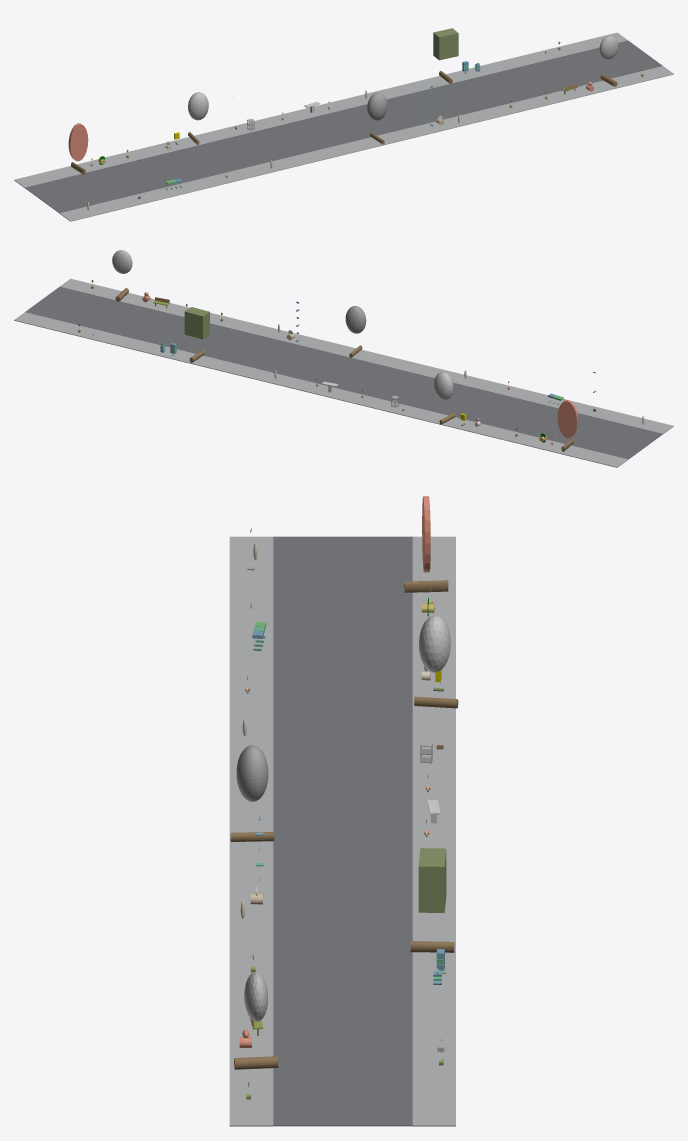
The picture shows the model from 3 angles, top to bottom: view 1: azimuth 30°, elevation 25°; view 2: azimuth 150°, elevation 25°; view 3: azimuth 270°, elevation 25°; orthographic projection. The views are drawn at different scales.
Visible parts, largest first — view 1: road_slab, sidewalk_left, sidewalk_right, inst_0015, inst_0012, inst_0013, inst_0014, inst_0016; view 2: road_slab, sidewalk_right, sidewalk_left, inst_0015, inst_0012, inst_0014, inst_0013, inst_0016; view 3: road_slab, sidewalk_left, sidewalk_right, inst_0015, inst_0013, inst_0014, inst_0016, inst_0012.
Boxes of the visible parts, box(x1,y1,x2,y2) form: road_slab: box(25, 40, 662, 213); sidewalk_left: box(59, 66, 673, 221); sidewalk_right: box(14, 32, 627, 187); inst_0015: box(433, 28, 458, 84); inst_0012: box(68, 123, 88, 174); inst_0013: box(188, 92, 208, 144); inst_0014: box(367, 93, 387, 144); inst_0016: box(599, 35, 618, 86); road_slab: box(25, 286, 662, 459); sidewalk_right: box(14, 312, 628, 467); sidewalk_left: box(60, 278, 673, 434); inst_0015: box(184, 307, 209, 362); inst_0012: box(557, 400, 578, 451); inst_0014: box(345, 306, 366, 357); inst_0013: box(433, 372, 455, 424); inst_0016: box(112, 250, 132, 301); road_slab: box(273, 536, 412, 1126); sidewalk_left: box(229, 536, 273, 1126); sidewalk_right: box(412, 536, 455, 1126); inst_0015: box(410, 848, 454, 952); inst_0013: box(414, 615, 458, 708); inst_0014: box(230, 745, 274, 841); inst_0016: box(234, 972, 278, 1069); inst_0012: box(404, 496, 448, 592).
Bounding box in the file's own units: 80 × 6.08 × 13.12.
